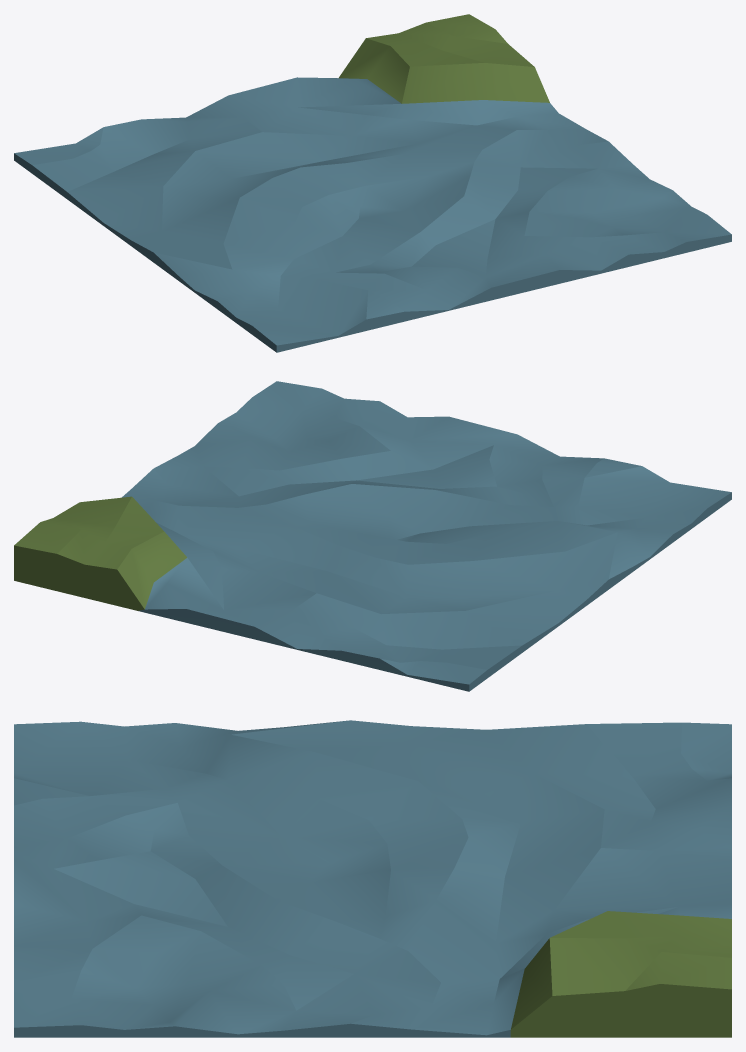
The model's file is Water_Corner_External_RU.glb.
3 renders of one model, top to bottom at view 1: azimuth 30°, elevation 25°; view 2: azimuth 150°, elevation 25°; view 3: azimuth 270°, elevation 25°, orthographic. The views are drawn at different scales.
Visible parts, largest first — view 1: Water_Corner_External_RU; view 2: Water_Corner_External_RU; view 3: Water_Corner_External_RU.
Boxes of the visible parts, bbox=[...] form: Water_Corner_External_RU: bbox=[14, 14, 731, 352]; Water_Corner_External_RU: bbox=[14, 381, 731, 691]; Water_Corner_External_RU: bbox=[14, 720, 731, 1037].
Size of the model in its own units: 1.47 by 0.1503 by 1.47.
